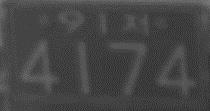1: (66, 39, 102, 95), (89, 11, 115, 35)
4: (155, 41, 198, 96), (20, 38, 59, 94)
7: (107, 40, 148, 95)
9: (57, 7, 84, 33)
서: (121, 13, 150, 35)
